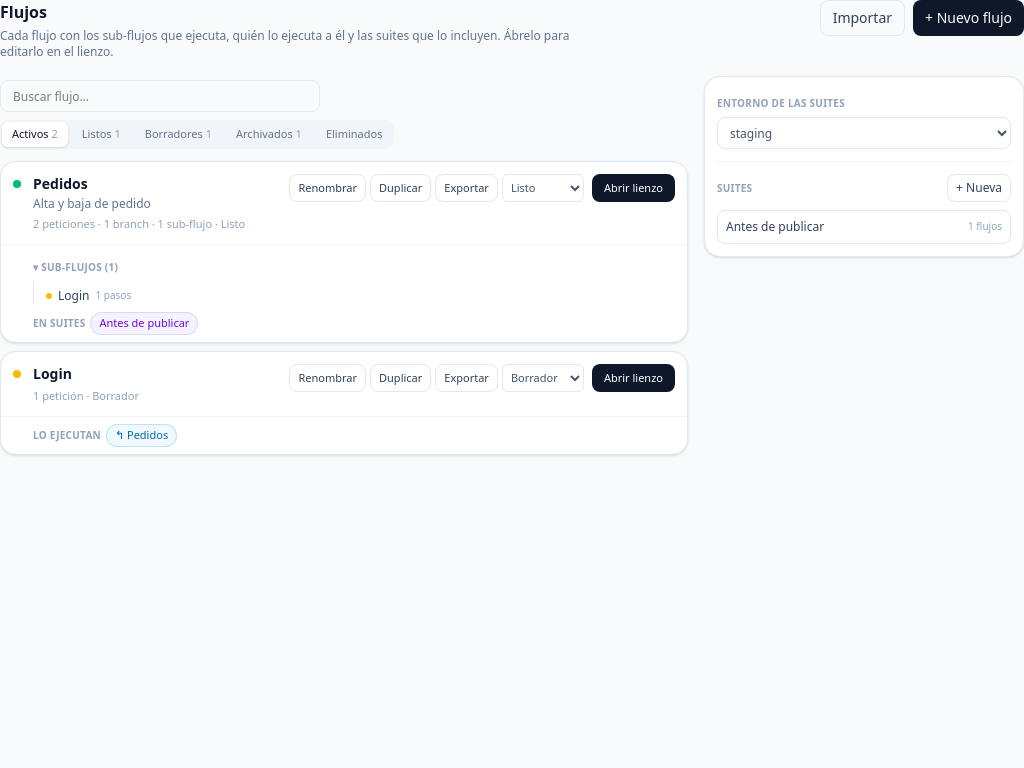
Test case: la lista de flujos: acciones por fila › cancelar el nuevo flujo no escribe nada
The width and height of the screenshot is (1024, 768).
expect the text "Pedidos" is shown: met, box [33, 174, 88, 192]
Click the button "+ Nuevo flujo" at (968, 18), box [913, 0, 1023, 36]
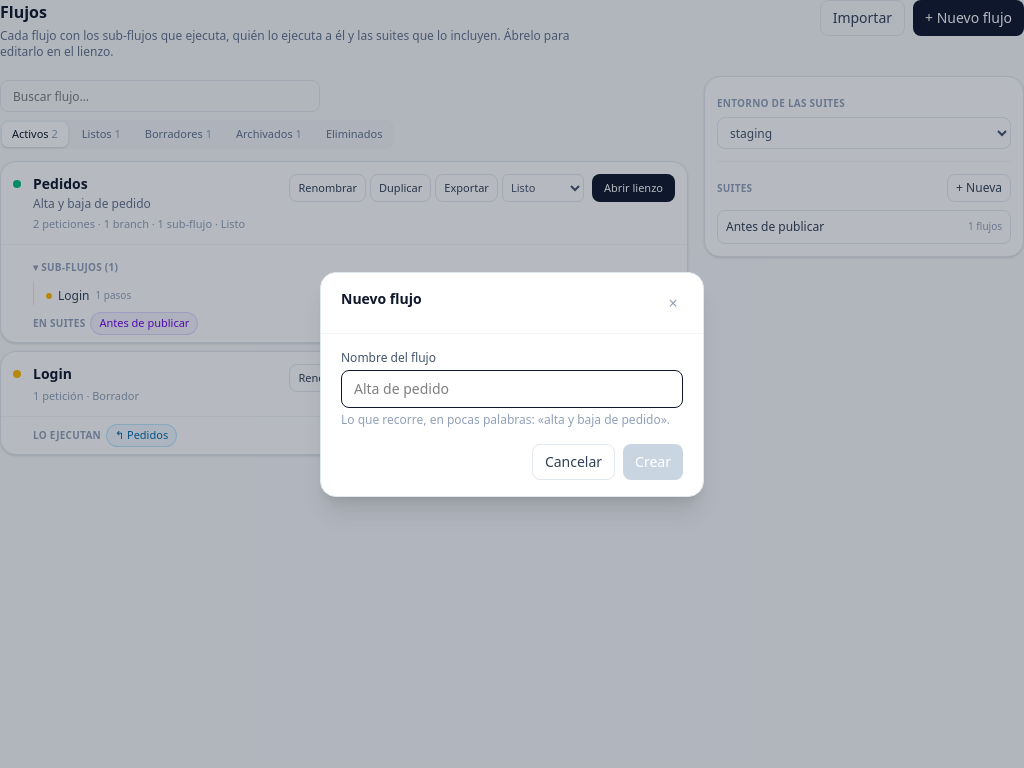
Click the button "Cancelar" at (574, 462), box [532, 444, 615, 480]
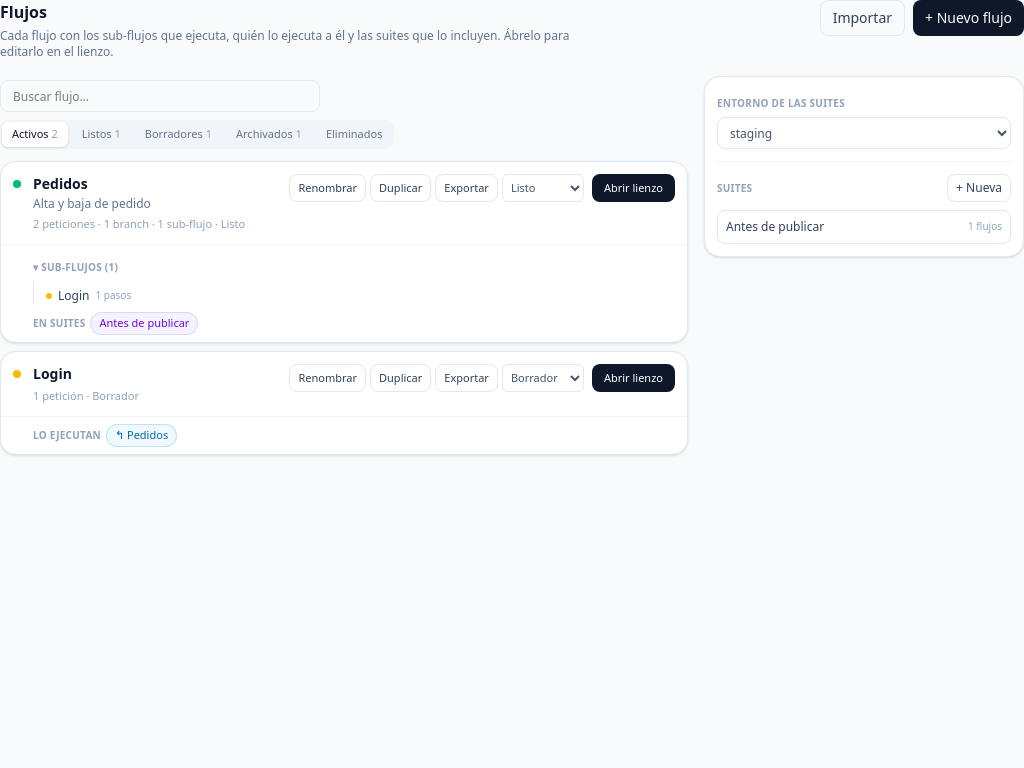
expect the dialog is gone: met
